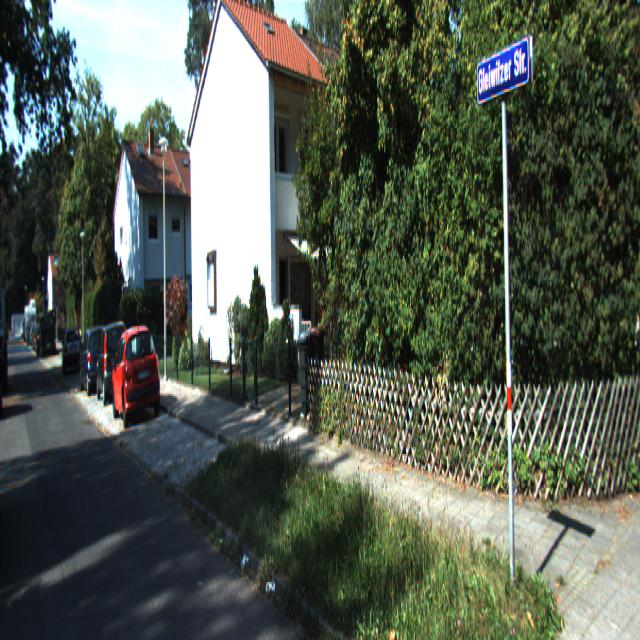Car: (111, 321, 161, 430), (92, 322, 130, 404), (76, 325, 110, 399), (61, 324, 81, 376)
